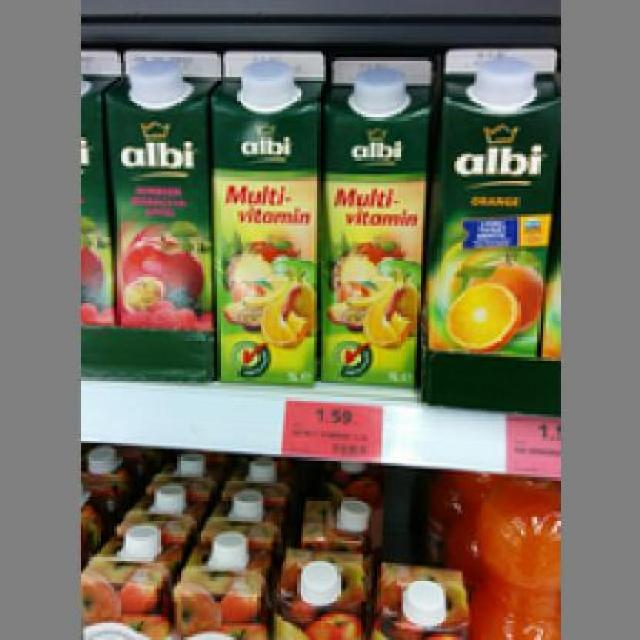Juice: (425, 36, 558, 352), (206, 40, 323, 386), (319, 48, 432, 386), (100, 45, 217, 328)
